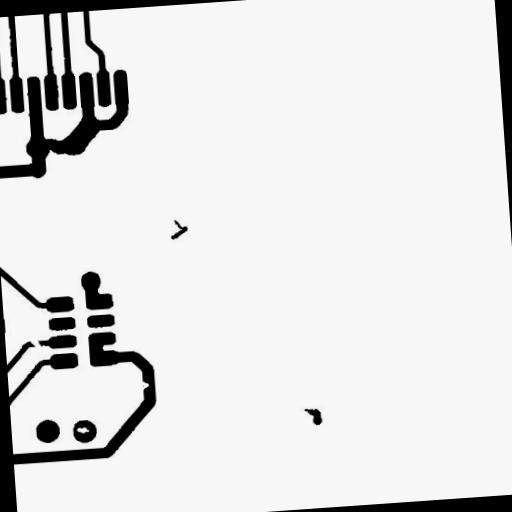copper: (162, 210, 196, 248), (296, 400, 330, 434)
mousebite: (129, 372, 157, 400)
open: (22, 329, 49, 356)
pin-hole: (68, 418, 96, 442)
short: (34, 130, 76, 164)
